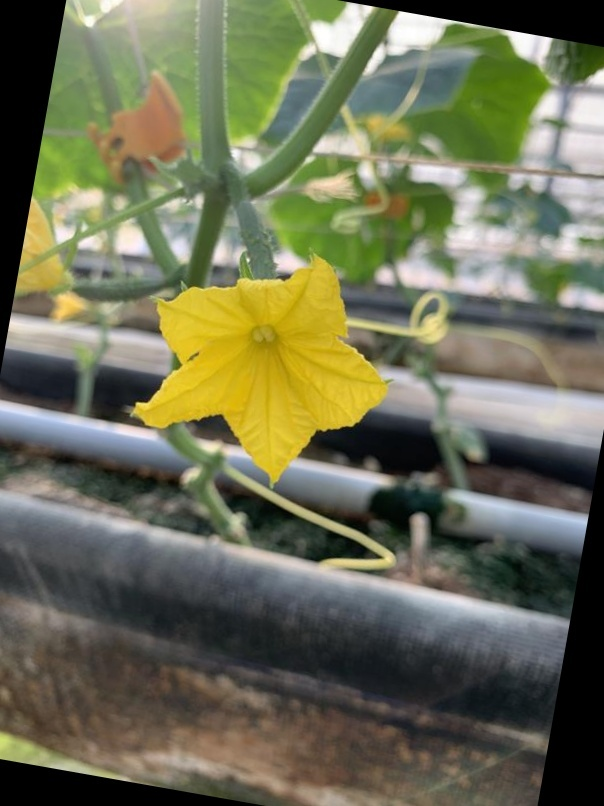flowering: (121, 185, 410, 490)
mature: (122, 184, 409, 489)
